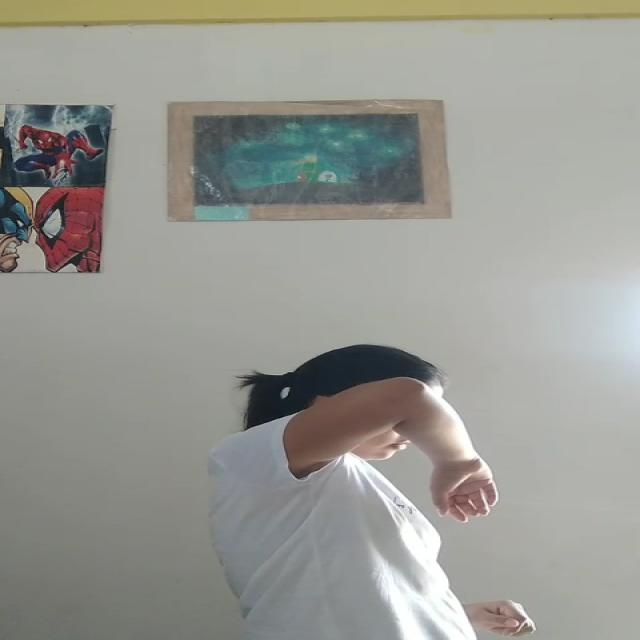7_mano_rostro: (294, 378, 456, 486)
